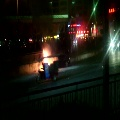fire: (37, 48, 51, 71)
